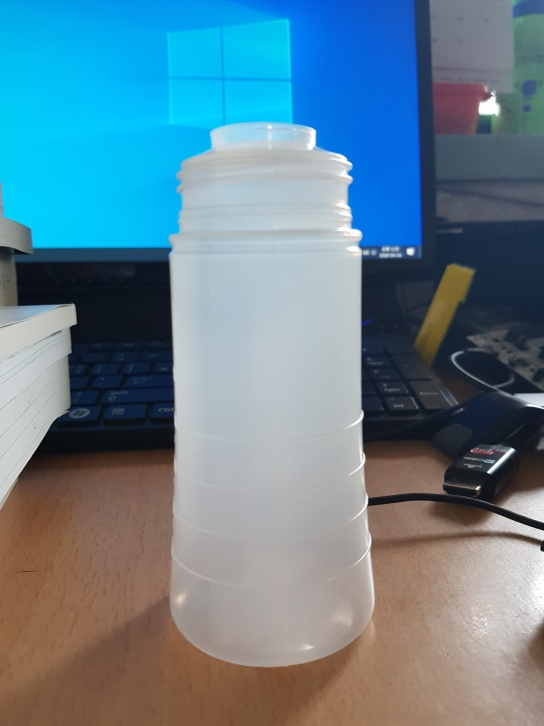Plastic: (164, 119, 378, 673)
